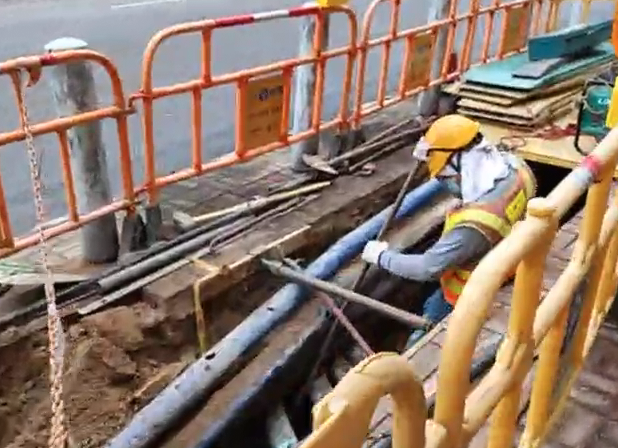Hard Hat: (422, 115, 486, 198)
Vest: (438, 174, 538, 307)
